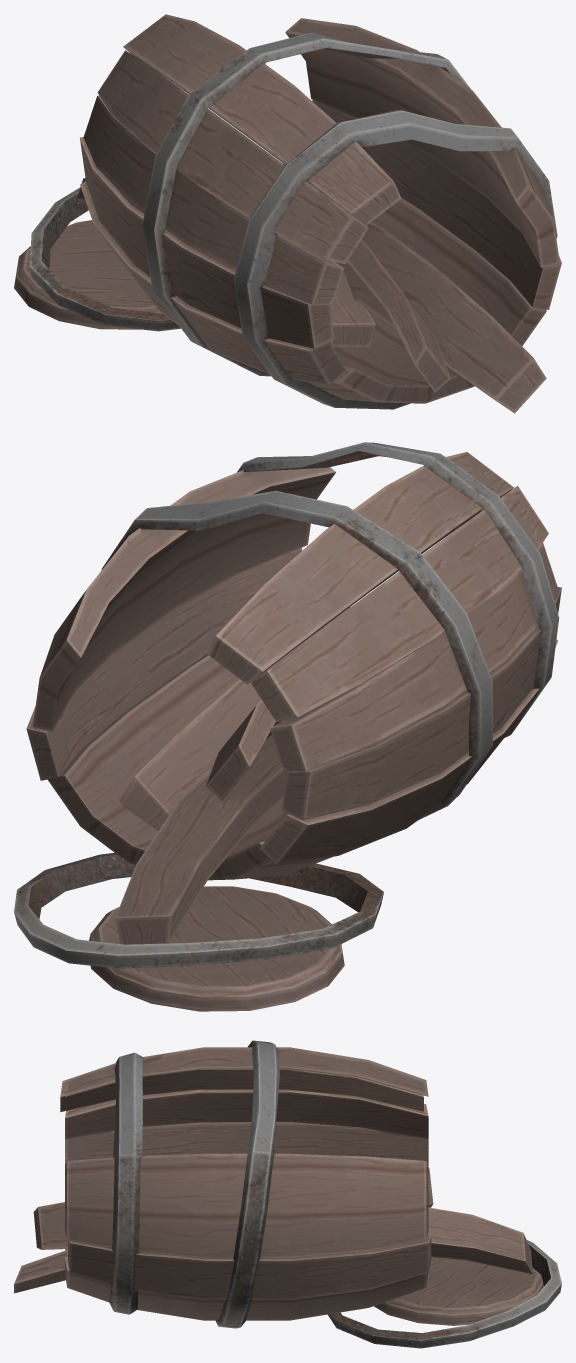
3 renders of one model, top to bottom at view 1: azimuth 30°, elevation 25°; view 2: azimuth 150°, elevation 25°; view 3: azimuth 270°, elevation 25°, orthographic. The views are drawn at different scales.
Parts seen in each view (by area): view 1: submesh_0; view 2: submesh_0; view 3: submesh_0.
Boxes of the visible parts, bbox=[...] form: submesh_0: bbox=[14, 14, 561, 413]; submesh_0: bbox=[14, 442, 561, 1011]; submesh_0: bbox=[14, 1040, 561, 1348].
Size of the model in its own units: 0.766 by 0.6701 by 1.33.
Materials: 1 (1 with a texture image).
